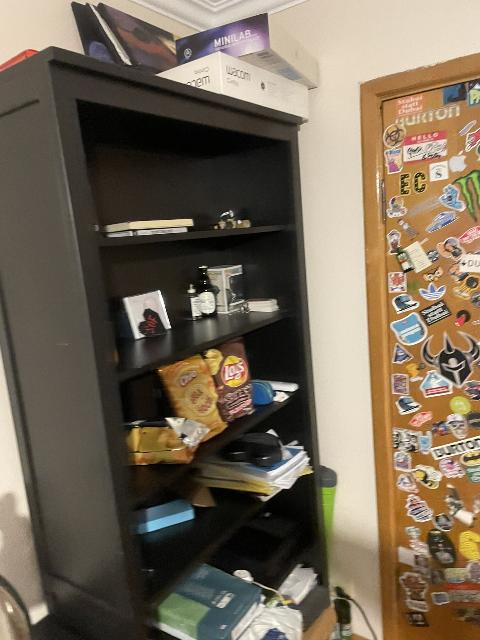Chio Cascaval 125g: (120, 419, 212, 467)
Chio Hula Hoops Cheese 70g: (157, 352, 227, 443)
Lays Beef Grilled Ribs 125g: (208, 340, 255, 419)
